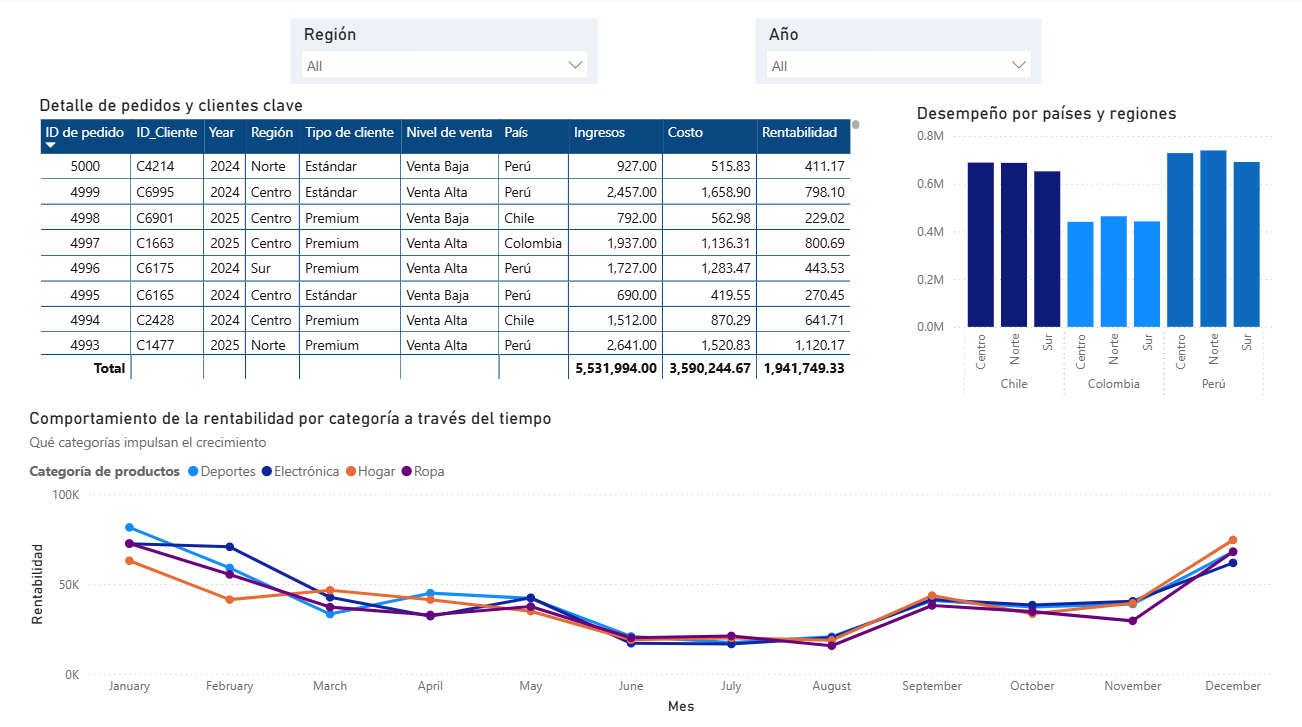

Layout of this report page (visuals, bound fields, positions):
{"tool":"powerbi","page":{"name":"Detalle","canvas":[1280,720],"ordinal":1},"visuals":[{"type":"tableEx","title":"Detalle de pedidos y clientes clave","fields":{"Values":["Andes_Retail_Group_2024_2025.ID_Pedido","Andes_Retail_Group_2024_2025.ID_Cliente","Andes_Retail_Group_2024_2025.Fecha_Pedido.Variation.Date Hierarchy.Year","Andes_Retail_Group_2024_2025.Región","Andes_Retail_Group_2024_2025.Segmento_Cliente","Andes_Retail_Group_2024_2025.Nivel_Venta","Andes_Retail_Group_2024_2025.País","Sum(Andes_Retail_Group_2024_2025.Ingresos)","Sum(Andes_Retail_Group_2024_2025.Costo)","Sum(Andes_Retail_Group_2024_2025.Margen_Bruto)"]},"box":[35.5,96.7,813.1,283.7],"z":0},{"type":"slicer","fields":{"Values":["Andes_Retail_Group_2024_2025.Región"]},"box":[286,22,301,64],"z":1000},{"type":"slicer","fields":{"Values":["Andes_Retail_Group_2024_2025.Fecha_Pedido.Variation.Date Hierarchy.Year"]},"box":[741,22,280,64],"z":2000},{"type":"lineChart","title":"Comportamiento de la rentabilidad por categoría a través del tiempo","fields":{"Category":["Andes_Retail_Group_2024_2025.Fecha_Pedido.Variation.Date Hierarchy.Month"],"Series":["Andes_Retail_Group_2024_2025.Categoría_Producto"],"Y":["Sum(Andes_Retail_Group_2024_2025.Margen_Bruto)"]},"box":[26,402,1227,305],"z":3000},{"type":"columnChart","title":"Desempeño por países y regiones","fields":{"Category":["Andes_Retail_Group_2024_2025.País","Andes_Retail_Group_2024_2025.Región"],"Y":["Sum(Andes_Retail_Group_2024_2025.Ingresos)"]},"box":[893.8,103.7,359.1,297.9],"z":4000}]}

Visuals, with their boxes in screenshot pixels (x1, y1, x2, y2), scaled from the page's 1280x720 canvas onto the 1302x727 screenshot:
"Detalle de pedidos y clientes clave" tableEx: bbox=(36, 98, 863, 384)
slicer - Andes_Retail_Group_2024_2025.Región: bbox=(291, 22, 597, 87)
slicer - Andes_Retail_Group_2024_2025.Fecha_Pedido.Variation.Date Hierarchy.Year: bbox=(754, 22, 1039, 87)
"Comportamiento de la rentabilidad por categoría a través del tiempo" lineChart: bbox=(26, 406, 1275, 714)
"Desempeño por países y regiones" columnChart: bbox=(909, 105, 1274, 406)
